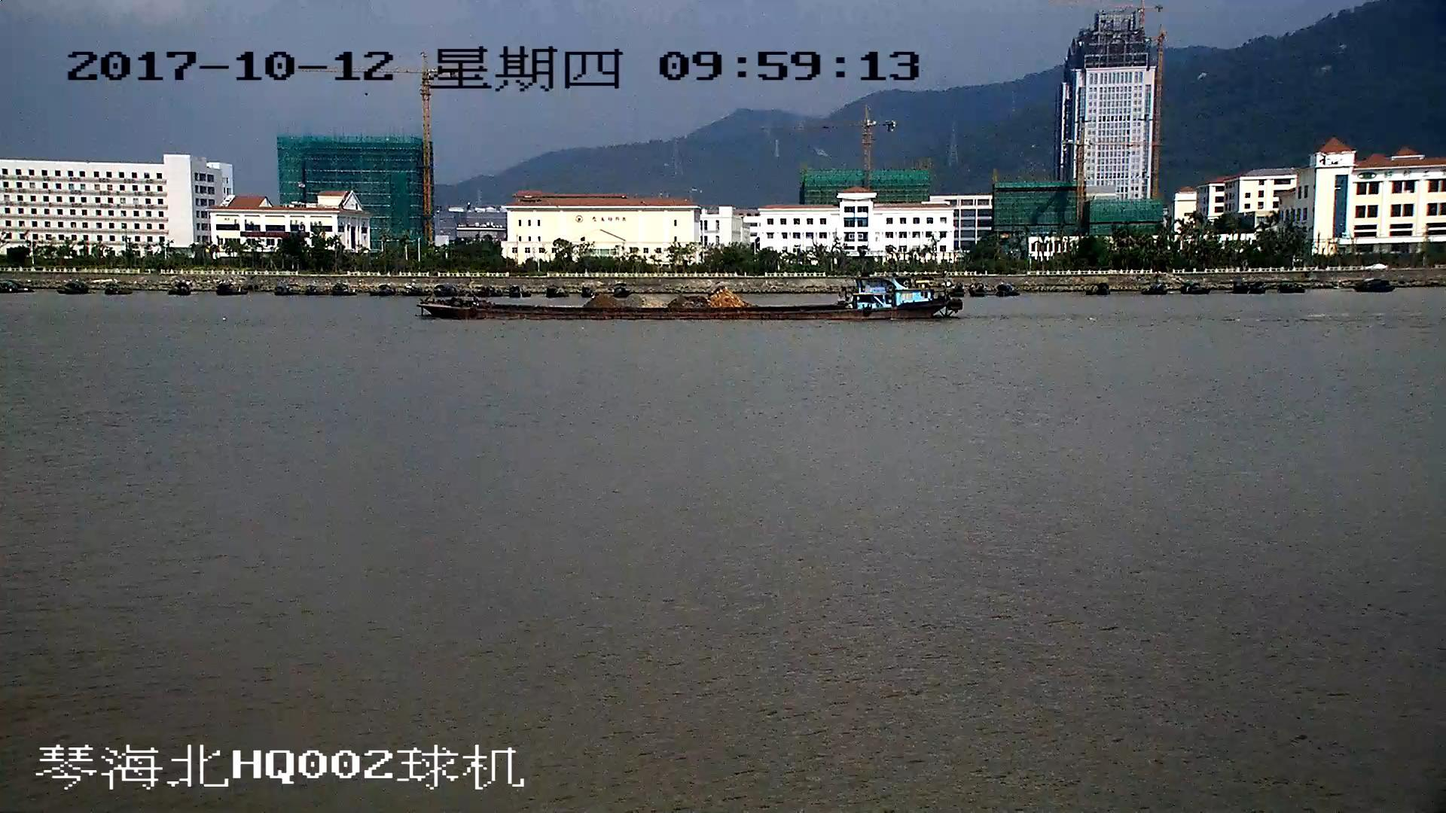ore carrier: (423, 272, 961, 323)
